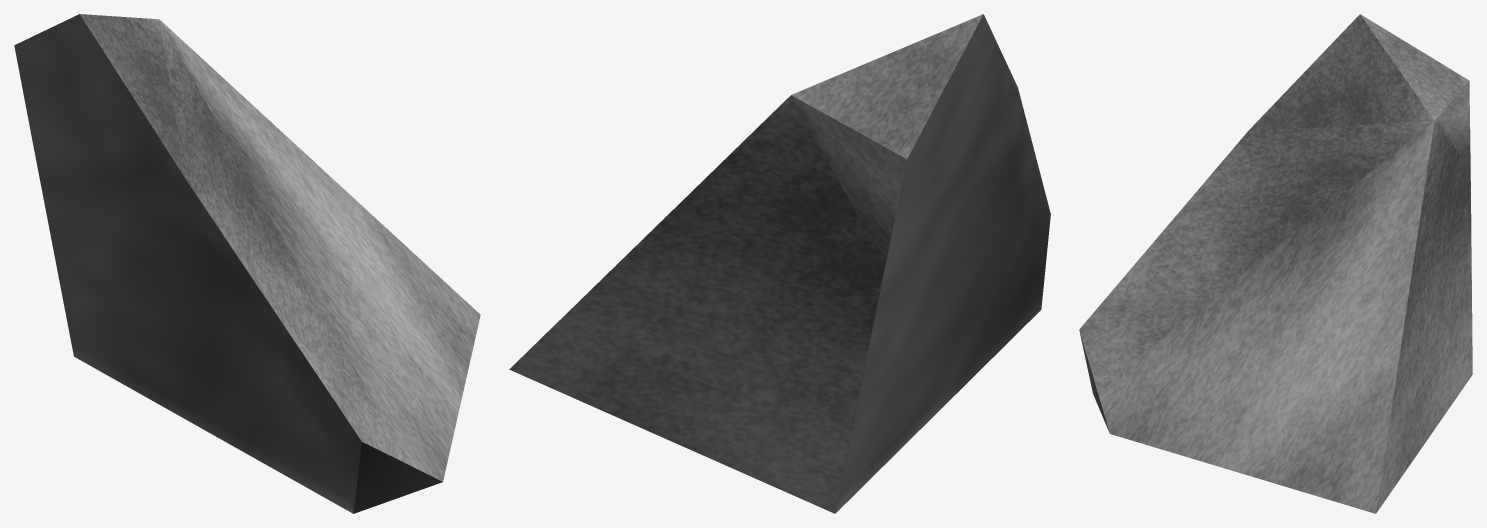
The model's file is leg_4_cell_008.fbx.
The picture shows the model from 3 angles, left to right: view 1: azimuth 30°, elevation 25°; view 2: azimuth 150°, elevation 25°; view 3: azimuth 270°, elevation 25°; orthographic projection. The views are drawn at different scales.
Parts seen in each view (by area): view 1: leg_4_cell.008; view 2: leg_4_cell.008; view 3: leg_4_cell.008.
Part boxes in pixels (left/top/right/bottom): leg_4_cell.008: left=14, top=14, right=480, bottom=513; leg_4_cell.008: left=509, top=14, right=1050, bottom=513; leg_4_cell.008: left=1079, top=14, right=1472, bottom=513.
Bounding box in the file's own units: 8.58 × 8.15 × 8.67.
